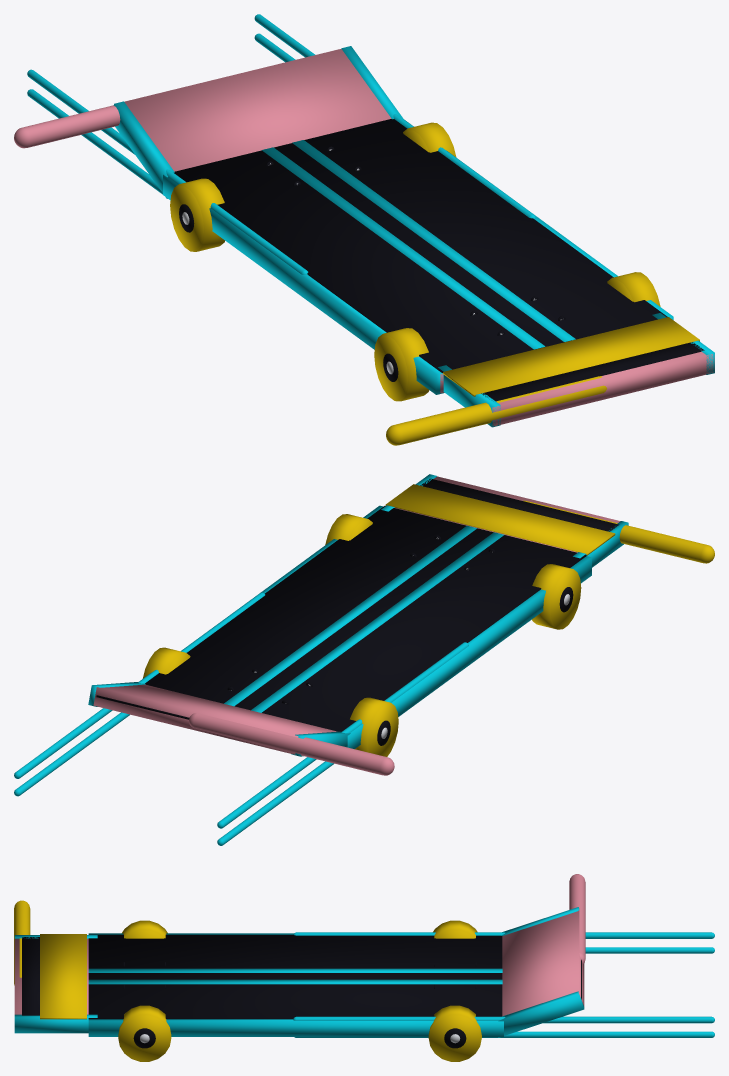
Rendered from veh_skateboard.glb.
The picture shows the model from 3 angles, top to bottom: view 1: azimuth 30°, elevation 25°; view 2: azimuth 150°, elevation 25°; view 3: azimuth 270°, elevation 25°; orthographic projection. The views are drawn at different scales.
Visible parts, largest first — view 1: veh_skateboard; view 2: veh_skateboard; view 3: veh_skateboard.
Boxes of the visible parts, x1=… form: veh_skateboard: x1=14, y1=14, x2=714, y2=445; veh_skateboard: x1=14, y1=474, x2=714, y2=845; veh_skateboard: x1=14, y1=874, x2=714, y2=1061.
Bounding box in the file's own units: 2.06 × 0.4787 × 4.74.
